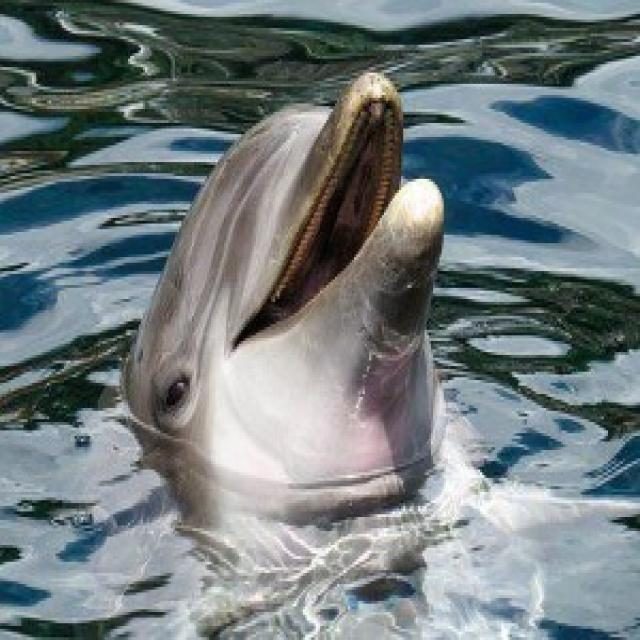Dolphin: (124, 55, 588, 640)
